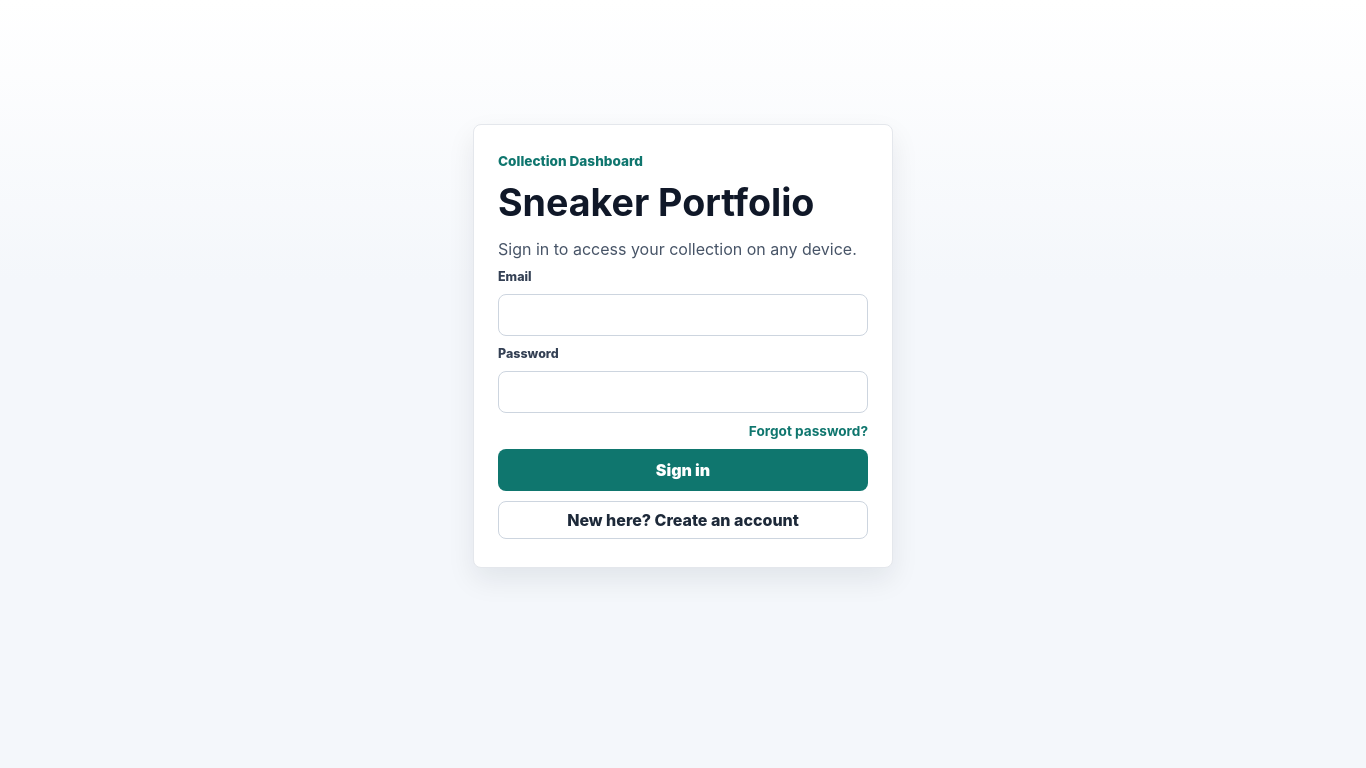
Scenario: user authentication › signs in and loads the collection for the authenticated user
Type "collector@example.com" into the field labelled "Email" at (683, 315), box left=498, top=294, right=868, bottom=336
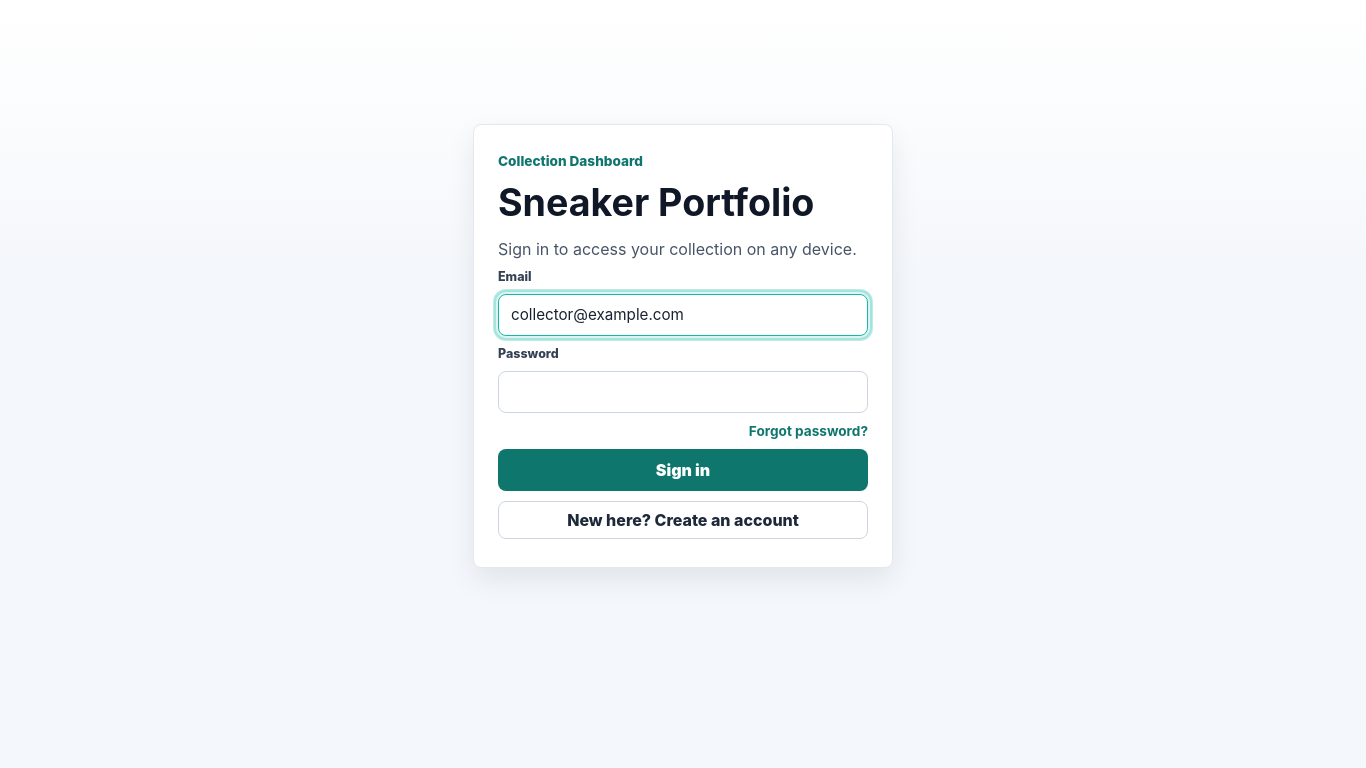
Type "Secret123!" into the password field labelled "Password" at (683, 392), box left=498, top=371, right=868, bottom=413
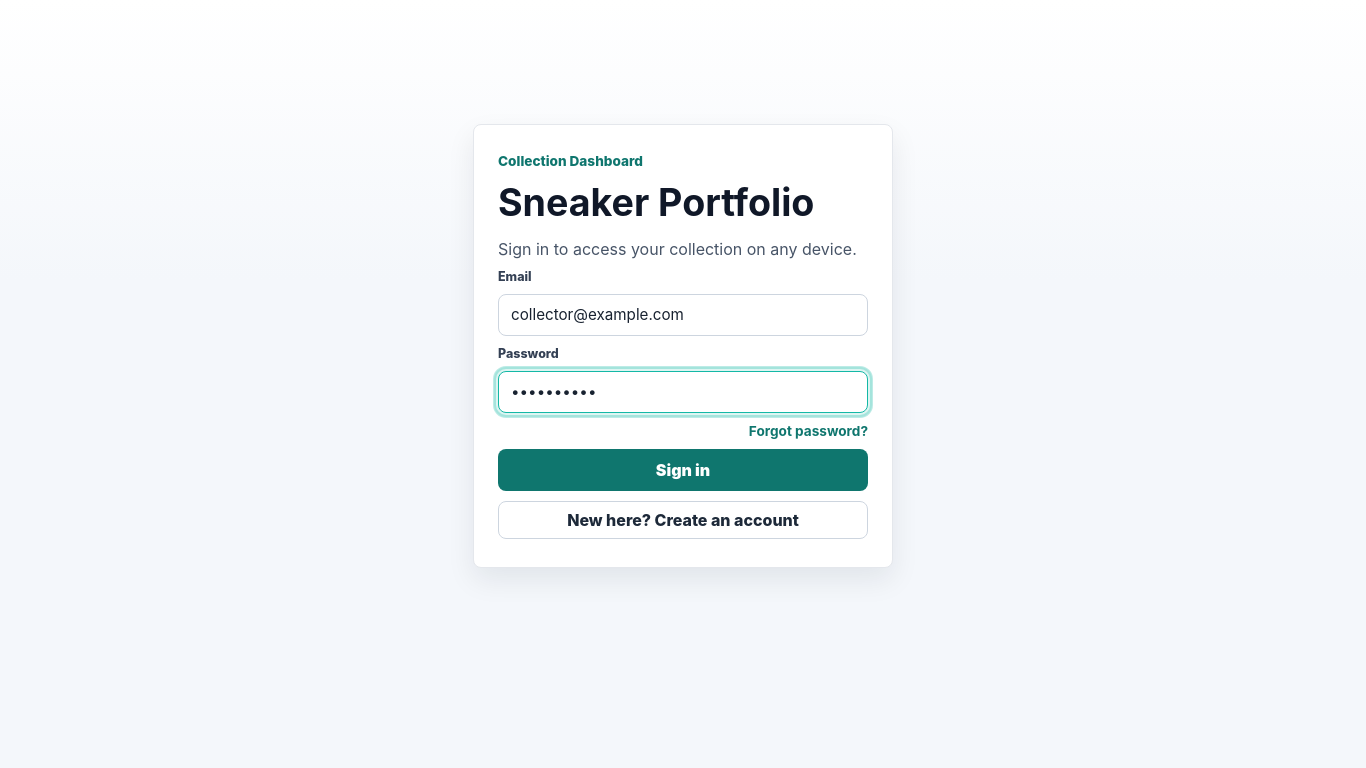
Click the button "Sign in" at (683, 470), box left=498, top=449, right=868, bottom=491
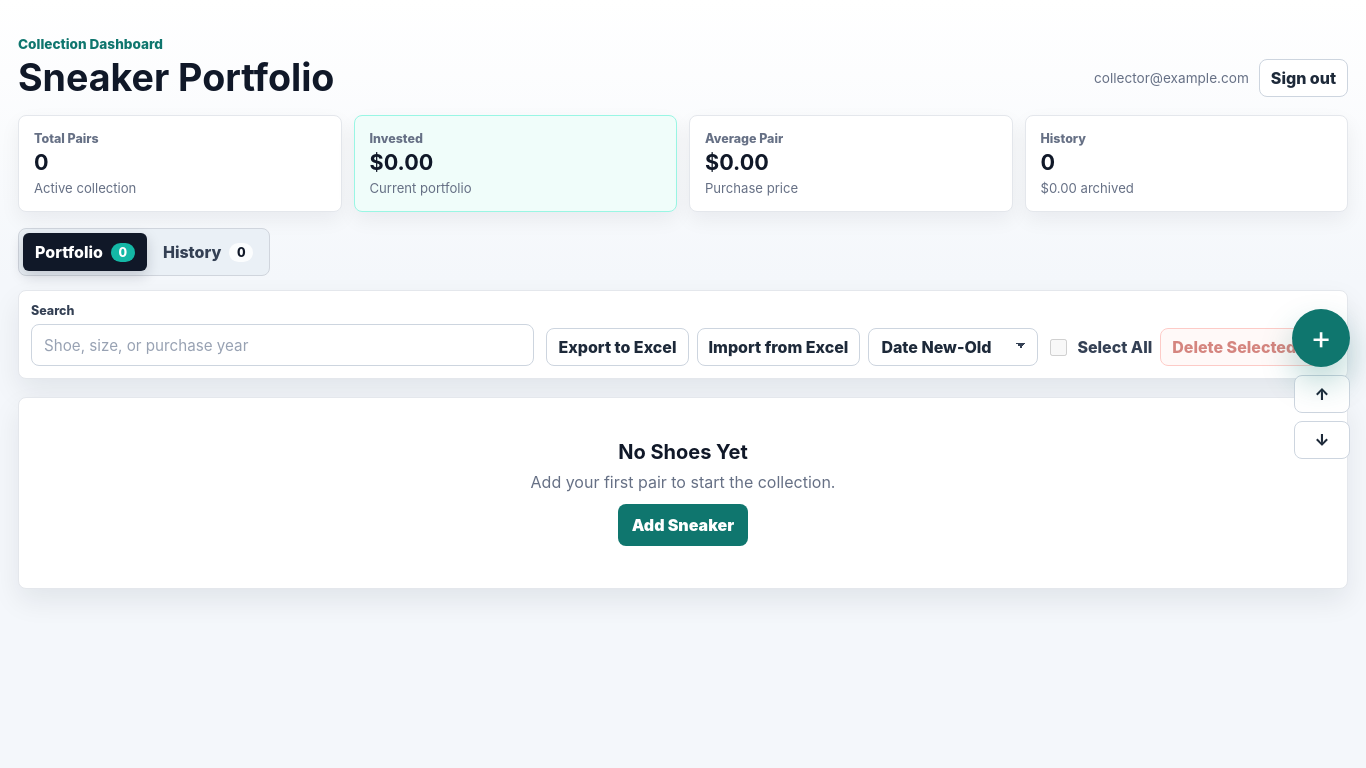
Check: the heading "No Shoes Yet" is shown, box left=618, top=440, right=748, bottom=464
Check: the text "collector@example.com" is shown, box left=1094, top=70, right=1249, bottom=86
